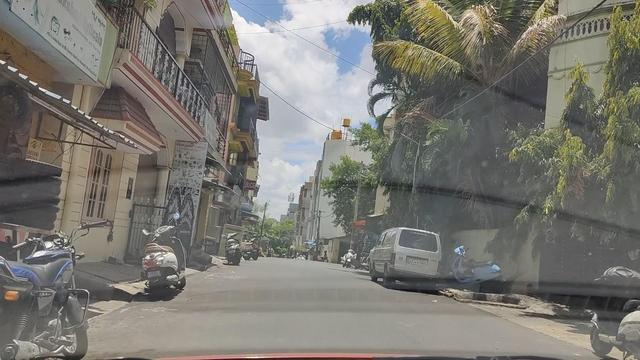LMV: (139, 214, 191, 301), (364, 224, 433, 284)
